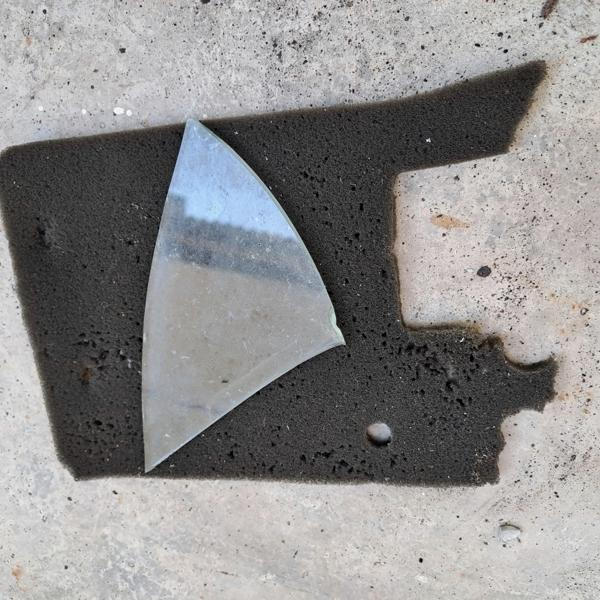Anorganik: (117, 99, 350, 479)
